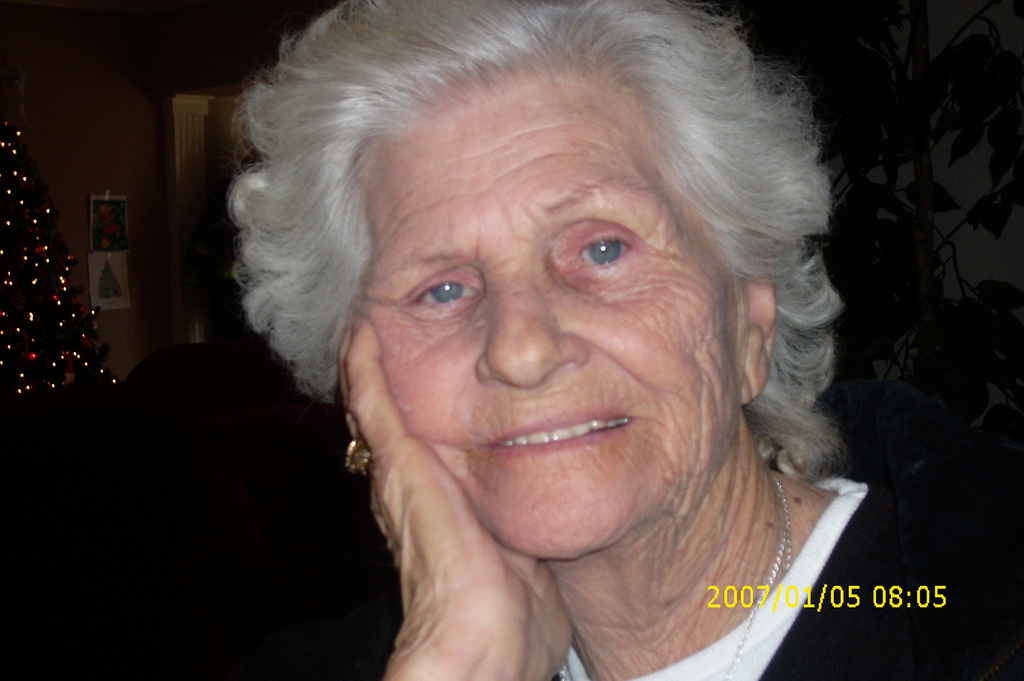Human_hand: (318, 381, 595, 670)
